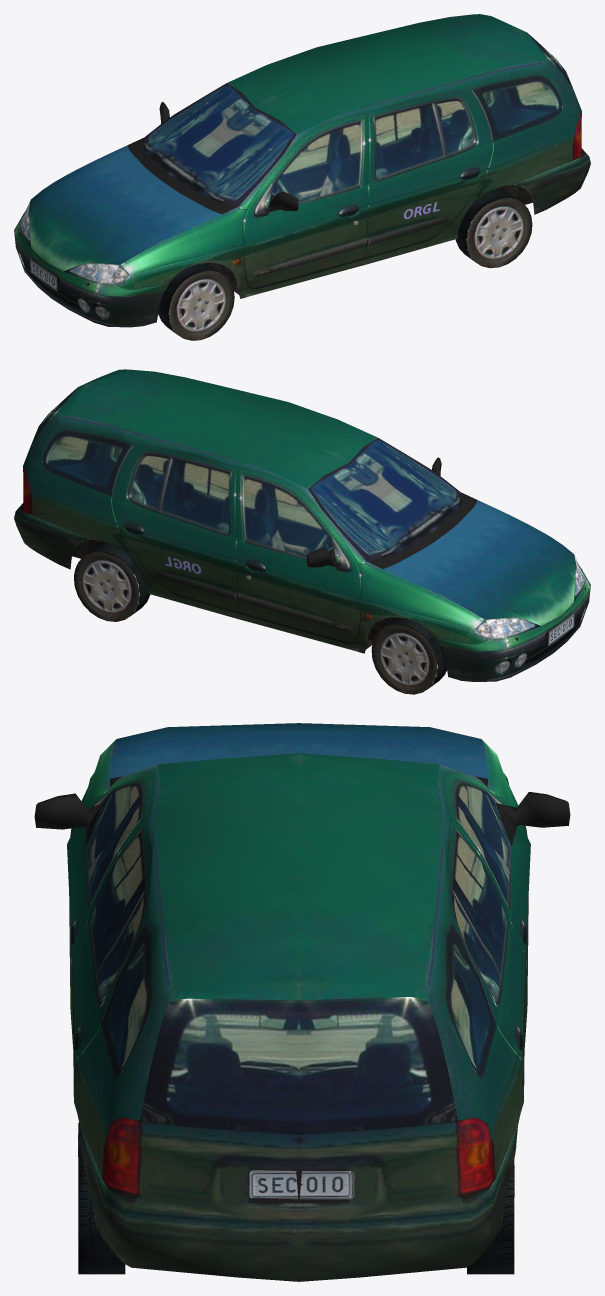
File: ORGL.FBX
3 views of the same model, one above another, from view 1: azimuth 30°, elevation 25°; view 2: azimuth 150°, elevation 25°; view 3: azimuth 270°, elevation 25° (orthographic). The views are drawn at different scales.
Visible parts, largest first — view 1: 06body, 06tyres, 06tyresurf, 06fill; view 2: 06body, 06tyres, 06tyresurf, 06fill; view 3: 06body, 06tyresurf, 06plates.
Part boxes in pixels (x1=…): 06body: x1=14, y1=14, x2=590, y2=327; 06tyres: x1=169, y1=197, x2=531, y2=340; 06tyresurf: x1=158, y1=188, x2=532, y2=340; 06fill: x1=169, y1=185, x2=532, y2=305; 06body: x1=14, y1=369, x2=590, y2=681; 06tyres: x1=74, y1=551, x2=437, y2=694; 06tyresurf: x1=74, y1=543, x2=446, y2=694; 06fill: x1=72, y1=539, x2=436, y2=659; 06body: x1=34, y1=723, x2=570, y2=1281; 06tyresurf: x1=78, y1=1122, x2=514, y2=1274; 06plates: x1=249, y1=1170, x2=354, y2=1199.
Size of the model in its own units: 4.55 by 1.52 by 2.04.
20 materials, 19 textured.
